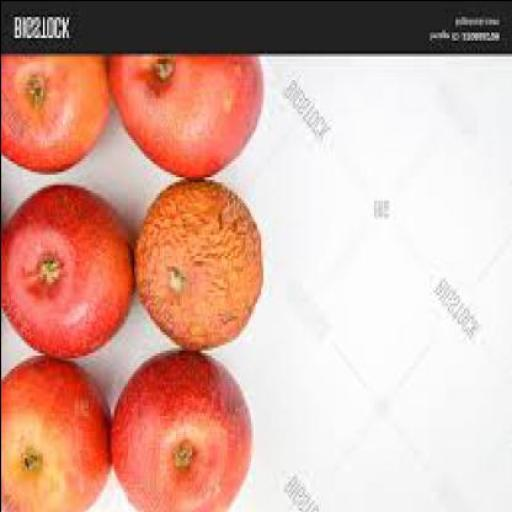biodegradable: (107, 348, 250, 511), (1, 183, 129, 363), (131, 181, 258, 354), (103, 54, 260, 182), (0, 359, 111, 511), (1, 59, 107, 176)
